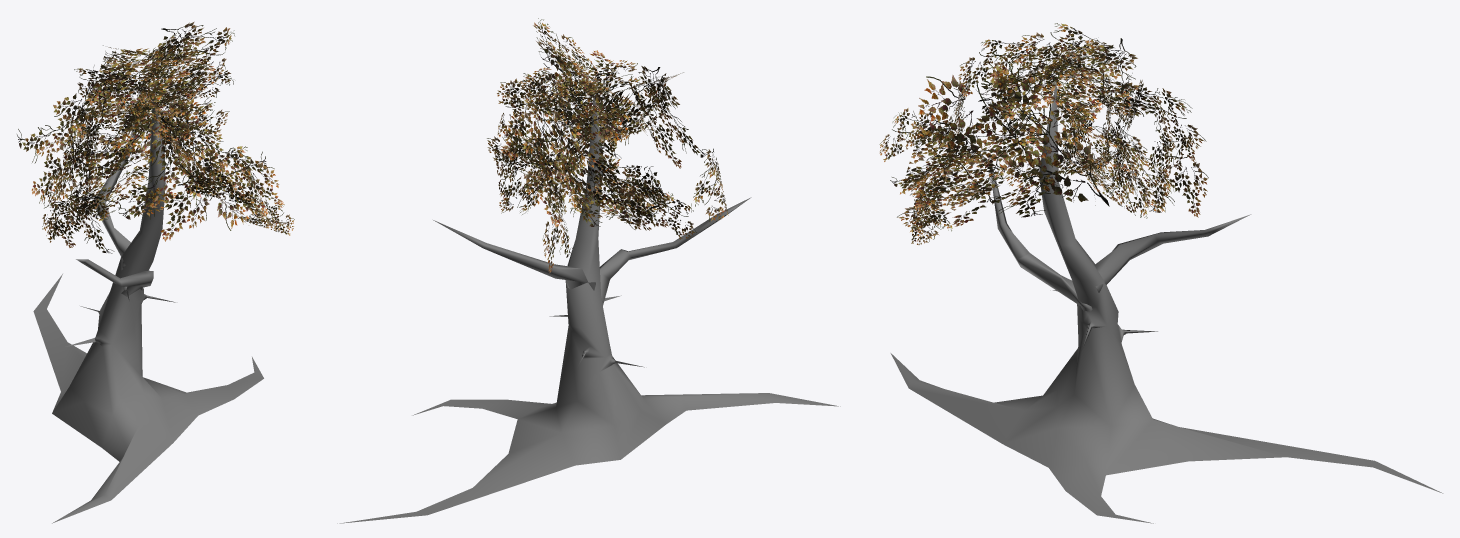
Rendered from ekatree_lod2.fbx.
3 renders of one model, left to right at view 1: azimuth 30°, elevation 25°; view 2: azimuth 150°, elevation 25°; view 3: azimuth 270°, elevation 25°, orthographic. The views are drawn at different scales.
Parts seen in each view (by area): view 1: Default_Layer; view 2: Default_Layer; view 3: Default_Layer.
Part boxes in pixels (x1=…): Default_Layer: x1=17, y1=21, x2=294, y2=523; Default_Layer: x1=337, y1=18, x2=840, y2=523; Default_Layer: x1=879, y1=23, x2=1443, y2=523.
Bounding box in the file's own units: 814 × 947 × 1152.
